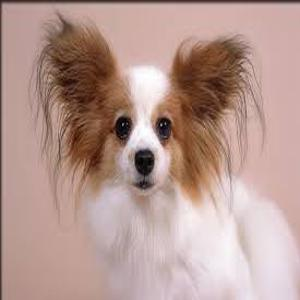yell: (34, 13, 299, 300)
